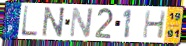1: (122, 9, 133, 39)
2: (94, 7, 114, 40)
H: (142, 10, 168, 40)
L: (20, 5, 39, 38)
N: (68, 6, 95, 39), (41, 6, 67, 38)
